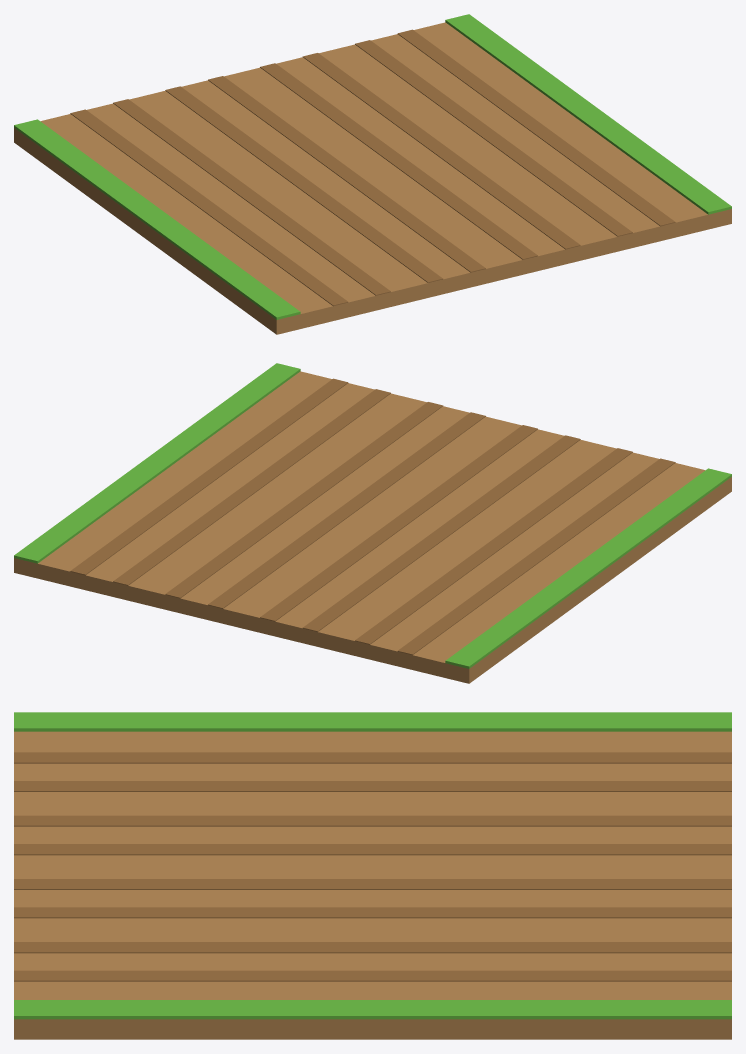
File: farm_tile.glb
3 renders of one model, top to bottom at view 1: azimuth 30°, elevation 25°; view 2: azimuth 150°, elevation 25°; view 3: azimuth 270°, elevation 25°, orthographic. The views are drawn at different scales.
Visible parts, largest first — view 1: farm_tile; view 2: farm_tile; view 3: farm_tile.
Part boxes in pixels (box(x1,y1,x2,y2)): farm_tile: box(14, 14, 731, 334); farm_tile: box(14, 363, 731, 683); farm_tile: box(14, 712, 731, 1039).
Bounding box in the file's own units: 9.6 × 0.35 × 9.6.
